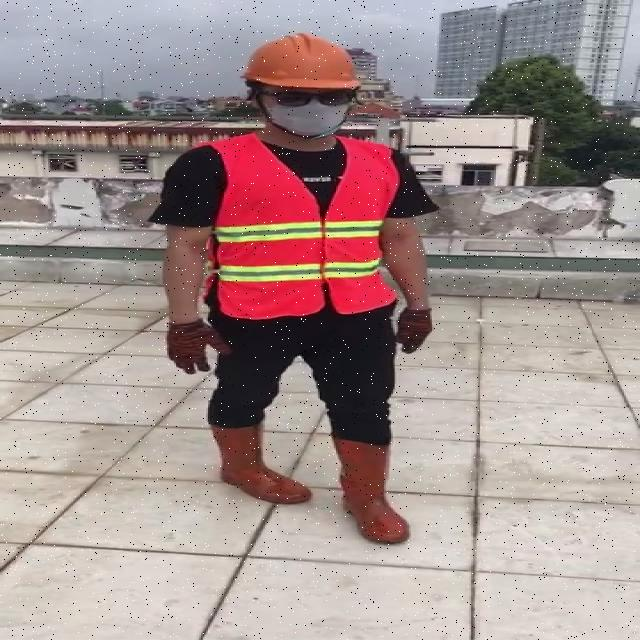Hard_hat: (235, 32, 366, 104)
Person: (139, 33, 439, 599)
Vest: (208, 131, 391, 321)
